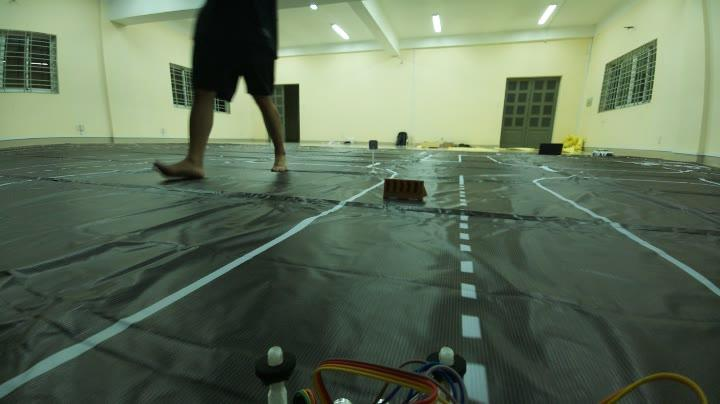roadblock: (378, 171, 436, 209)
